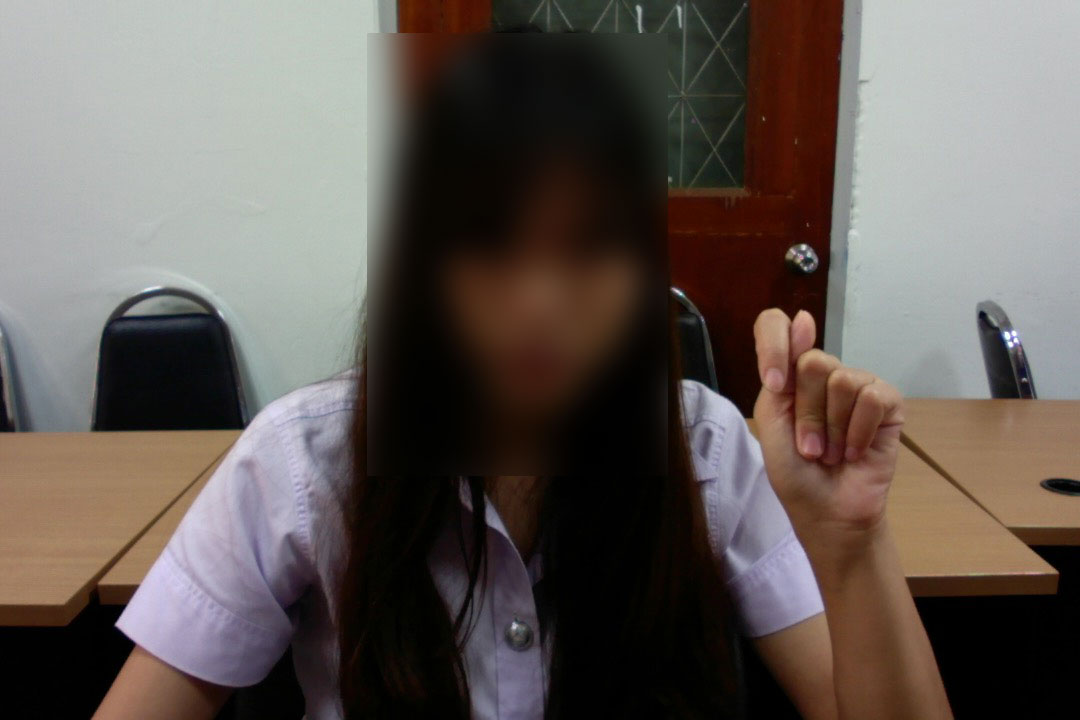tor: (741, 302, 911, 547)
